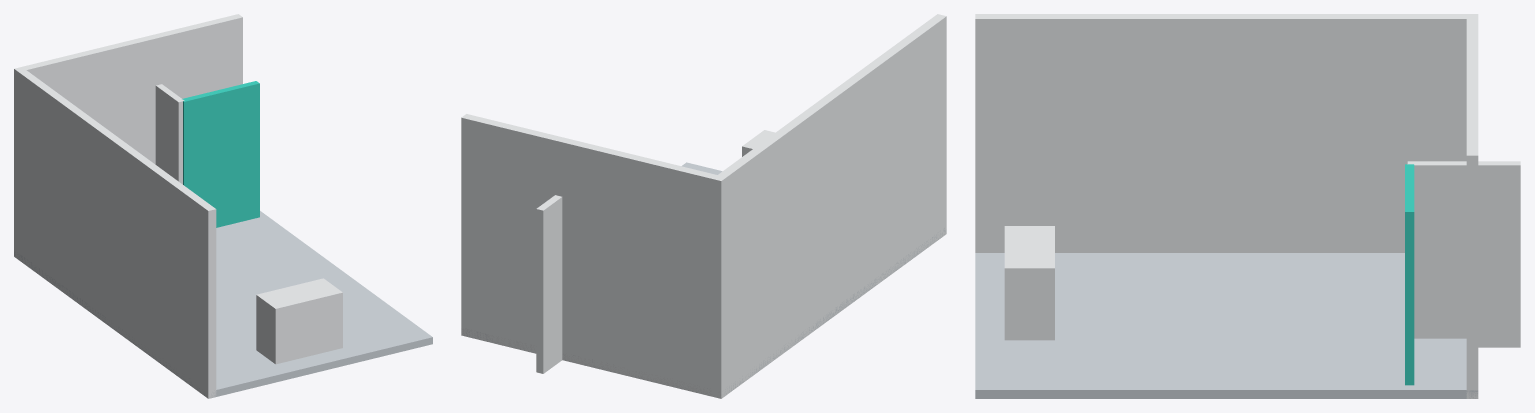
3 views of the same model, side by side, from view 1: azimuth 30°, elevation 25°; view 2: azimuth 150°, elevation 25°; view 3: azimuth 270°, elevation 25° (orthographic). The views are drawn at different scales.
Visible parts, largest first — view 1: Exhibition Booth Concept; view 2: Exhibition Booth Concept; view 3: Exhibition Booth Concept.
Boxes of the visible parts, <box> form: Exhibition Booth Concept: <box>14,14,432,398</box>; Exhibition Booth Concept: <box>461,14,946,398</box>; Exhibition Booth Concept: <box>975,14,1520,398</box>.
Size of the model in its own units: 4 by 3.2 by 6.51.
